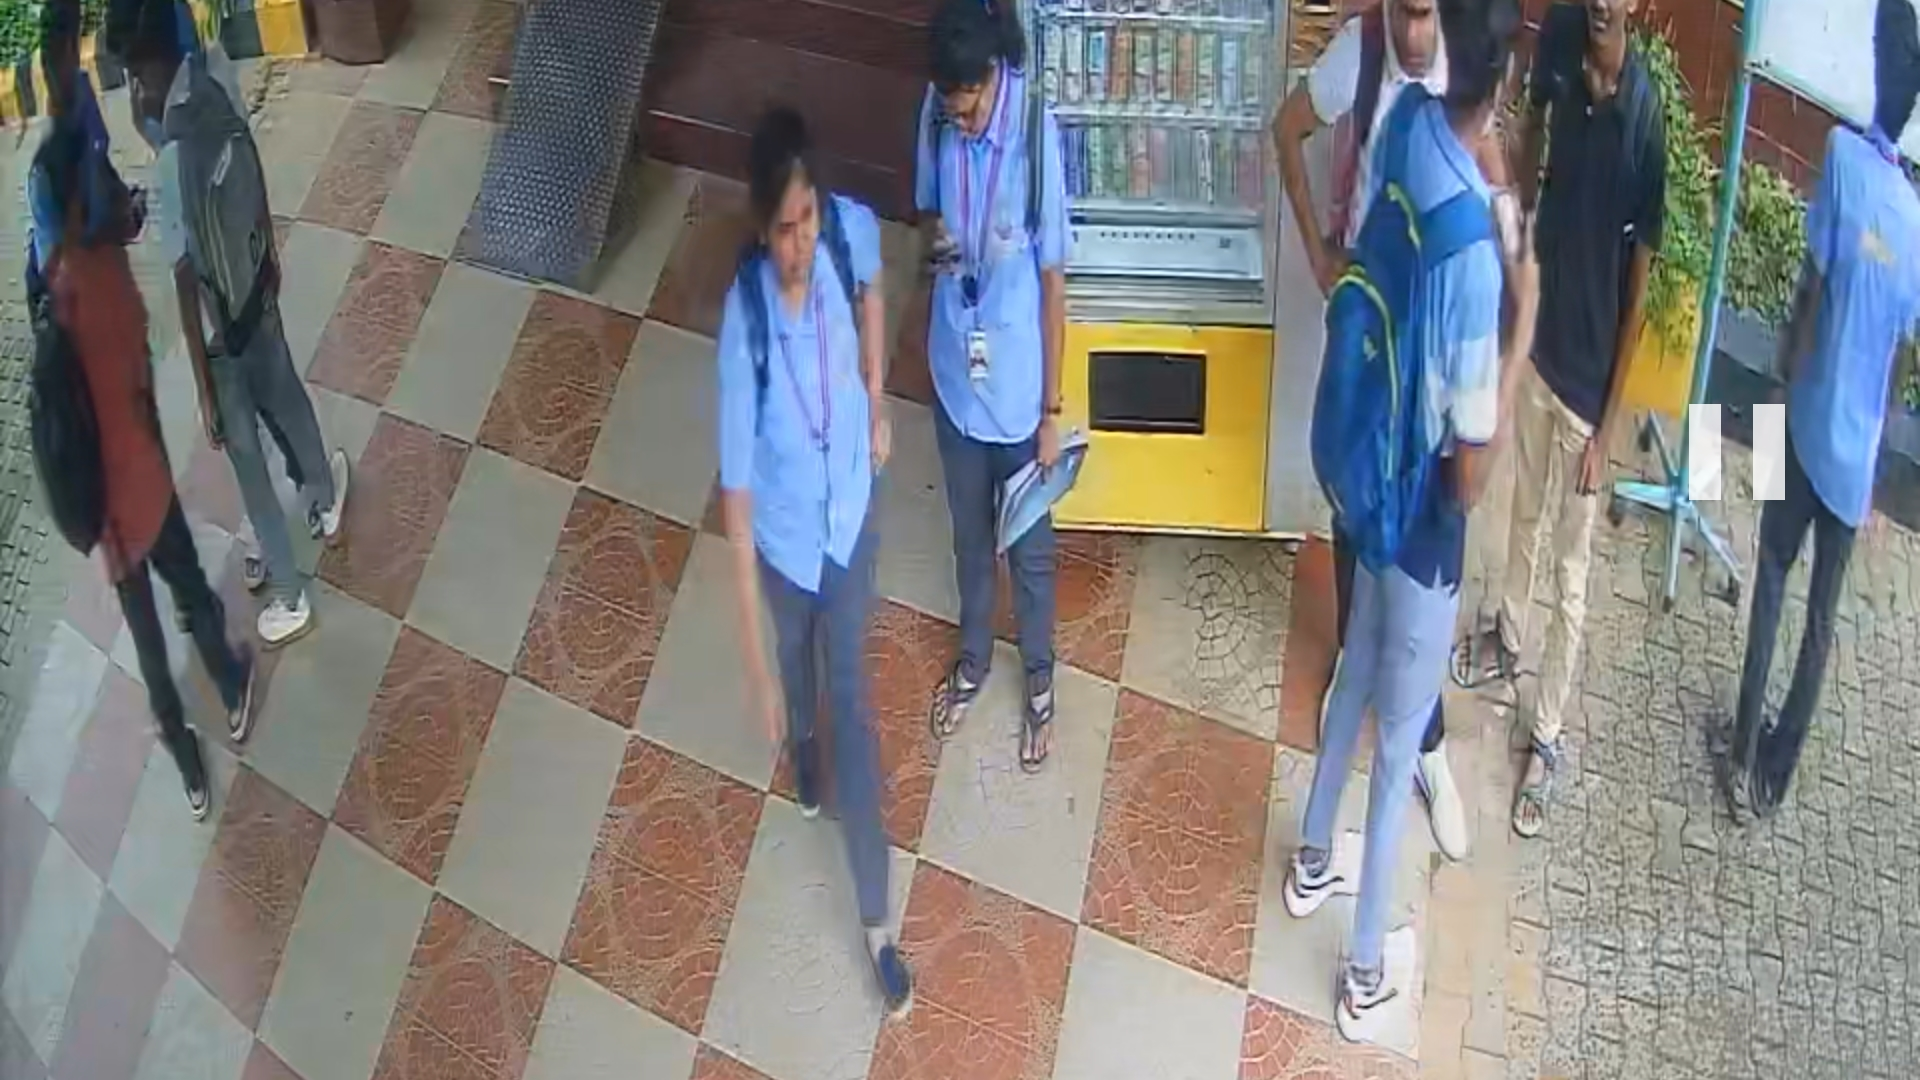not intruder: (687, 103, 943, 1029), (902, 1, 1098, 756)
